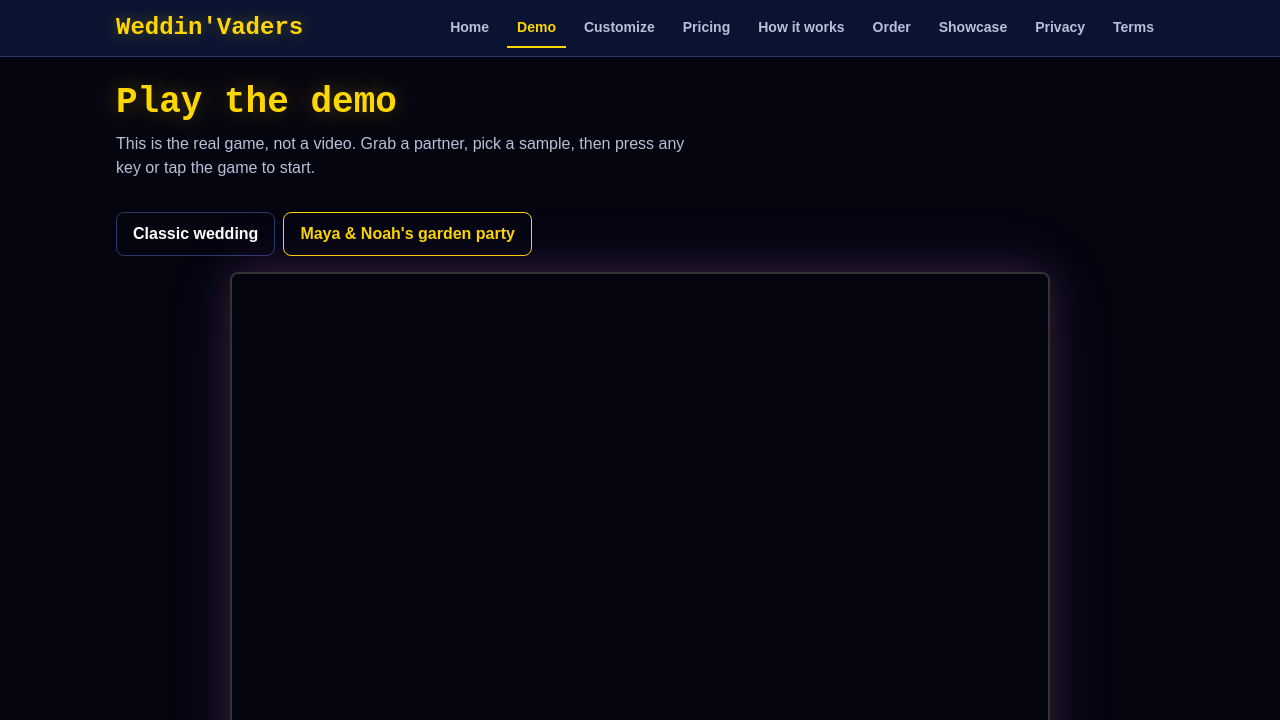
Test: DemoPage: switching between the sample games › test_nav_demo_returns_to_classic
Click the link "Demo": click(536, 28) [507,8,566,48]
(page scrolled)
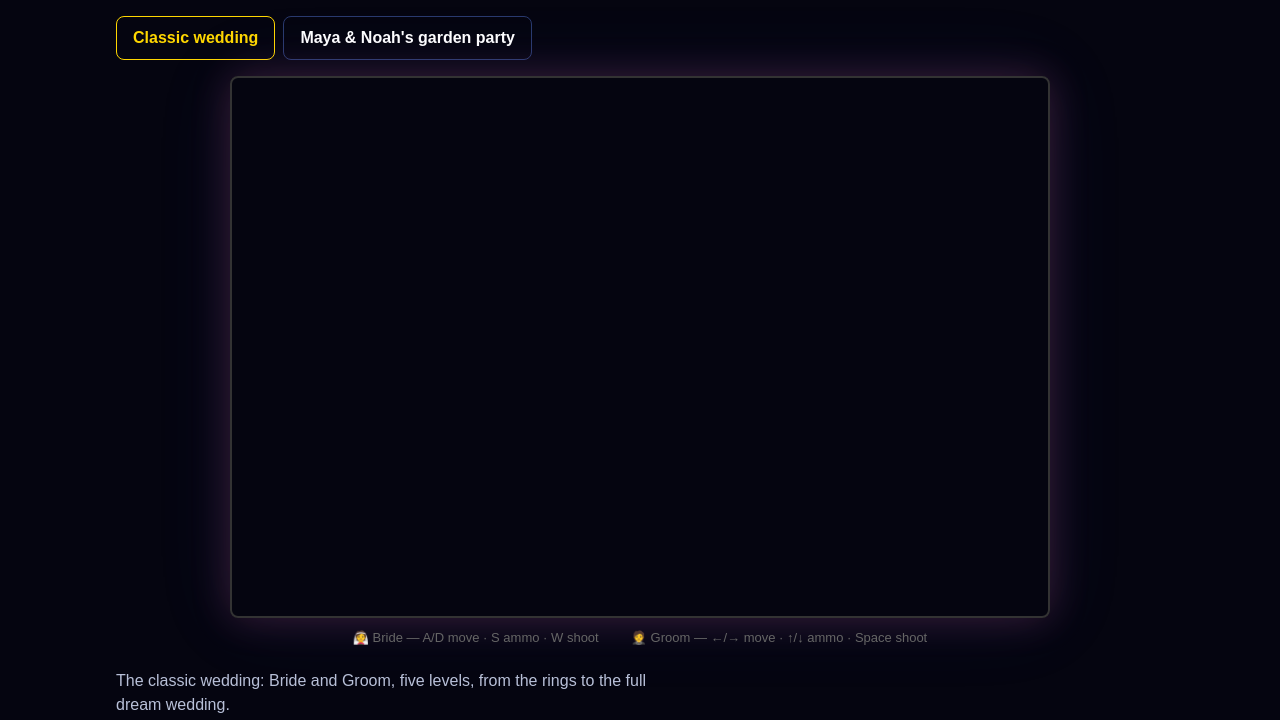
Check: the element with test id "demo-stage" has attribute data-event-slug="DemoWedding", box [230,76,1050,645]
